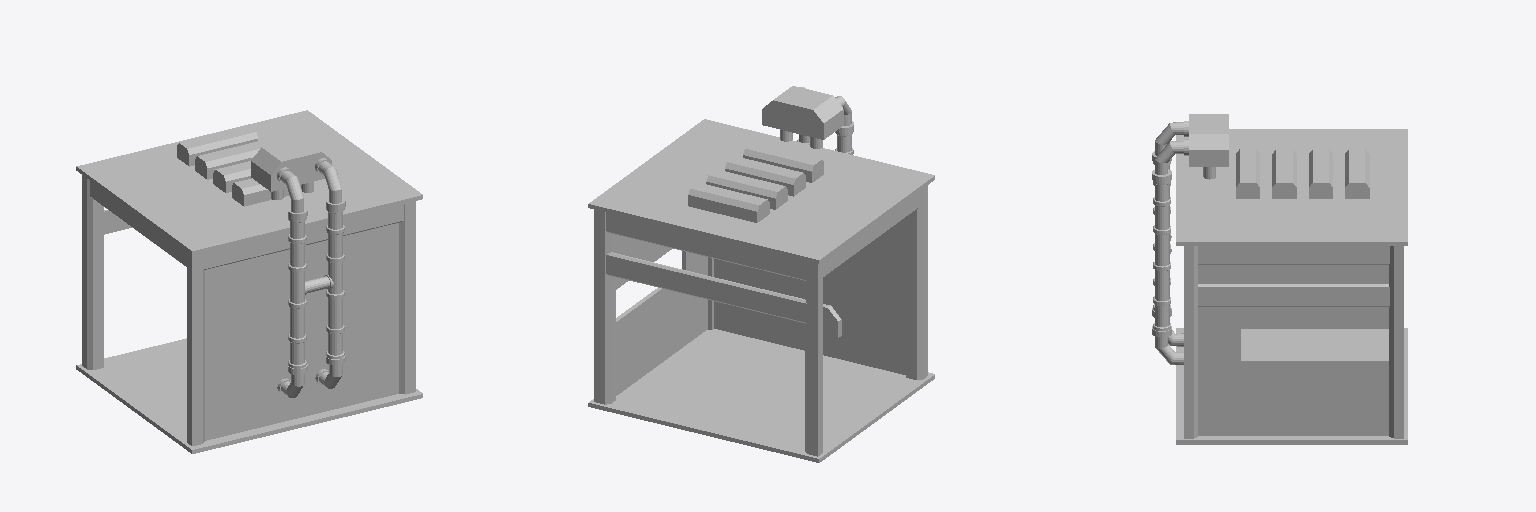
The model's file is Slum_house_10.obj.
The picture shows the model from 3 angles: view 1: azimuth 30°, elevation 25°; view 2: azimuth 150°, elevation 25°; view 3: azimuth 270°, elevation 25°; orthographic projection.
Visible parts, largest first — view 1: Slum_house_010; view 2: Slum_house_010; view 3: Slum_house_010.
Part boxes in pixels (bbox=[...]): Slum_house_010: bbox=[76, 110, 422, 453]; Slum_house_010: bbox=[588, 86, 934, 462]; Slum_house_010: bbox=[1152, 114, 1407, 444].
Size of the model in its own units: 508 by 555 by 488.